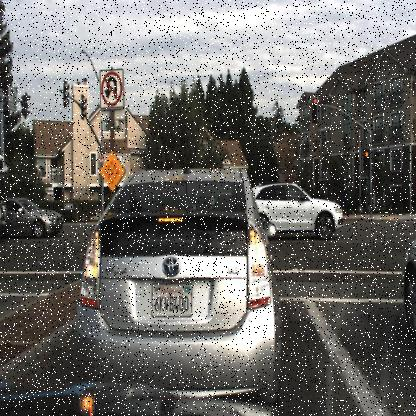car: (68, 155, 281, 397), (249, 169, 347, 237), (0, 196, 64, 240), (396, 214, 415, 351)
trafficLight-Red: (308, 90, 320, 126), (362, 146, 371, 174)
